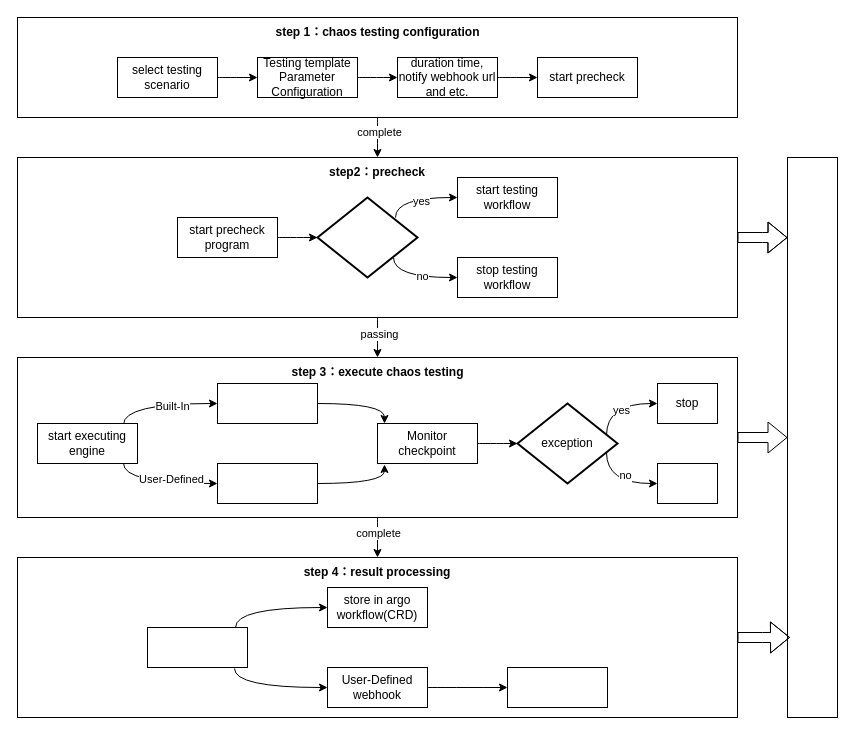
The diagram is 855 pixels wide and 735 high, and some of its shapes have lost their labels. Here are the shapes that lost their labels. From the top down, the centre of each, then its label:
(x=367, y=237): cluster healthy
(x=267, y=403): Built-In Scenarios
(x=812, y=437): Trigger Notification
(x=267, y=483): User-Defined Scenarios
(x=687, y=483): continue
(x=197, y=647): result
(x=557, y=687): wechat/Ding/email
